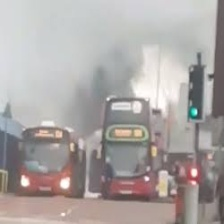smoke: (2, 1, 160, 96)
